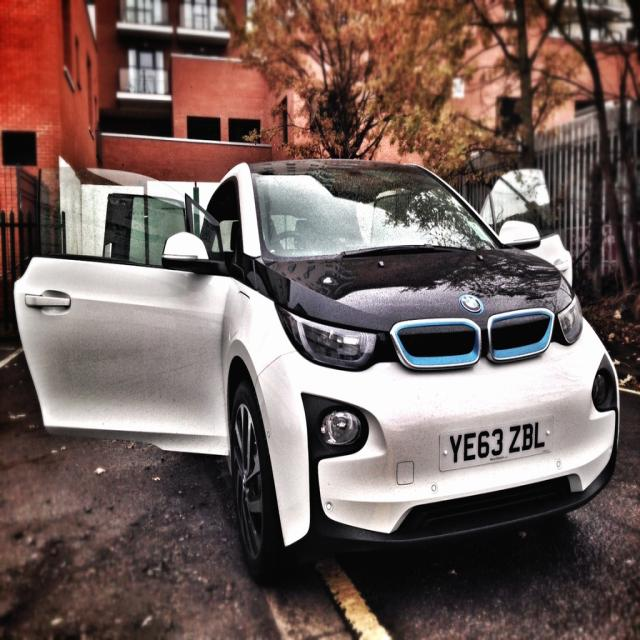car: (11, 162, 617, 578)
